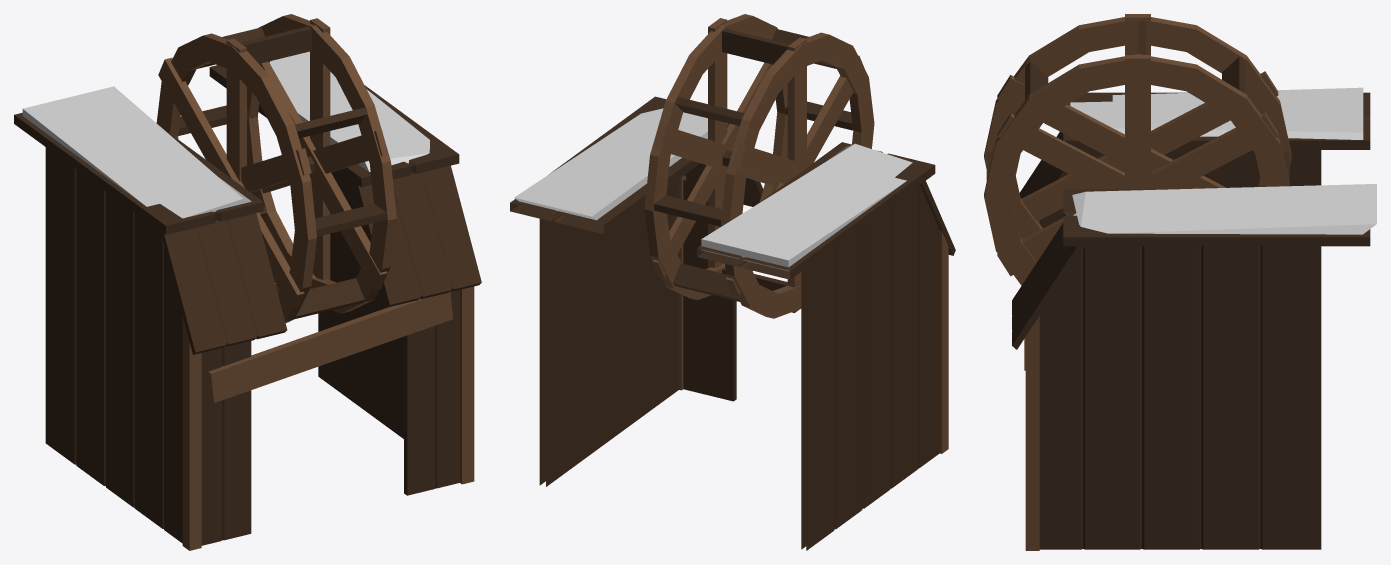
The model's file is mine_entrance_2_snow_mat.fbx.
3 renders of one model, left to right at view 1: azimuth 30°, elevation 25°; view 2: azimuth 150°, elevation 25°; view 3: azimuth 270°, elevation 25°, orthographic. The views are drawn at different scales.
Parts seen in each view (by area): view 1: mine_entrance_2_snow_mat; view 2: mine_entrance_2_snow_mat; view 3: mine_entrance_2_snow_mat.
Boxes of the visible parts, x1,y1,x2,y2 form: mine_entrance_2_snow_mat: [14, 14, 481, 550]; mine_entrance_2_snow_mat: [510, 14, 955, 550]; mine_entrance_2_snow_mat: [984, 14, 1376, 550].
Bounding box in the file's own units: 219 × 314 × 251.
